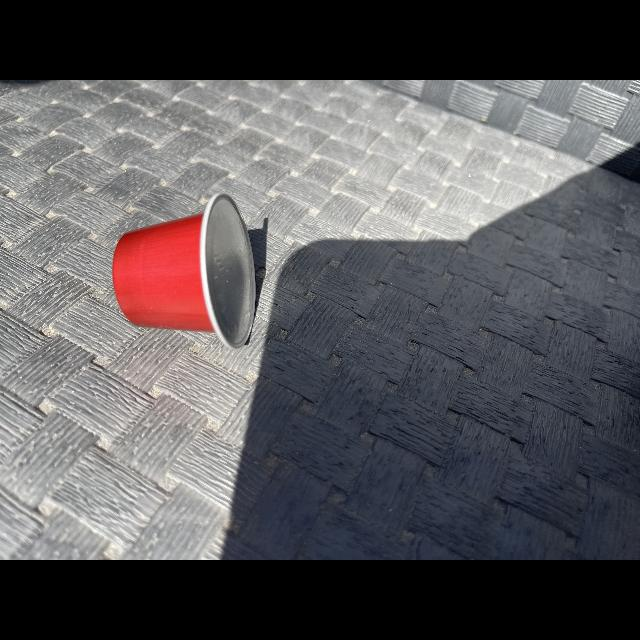intact_capsule: (101, 184, 265, 364)
